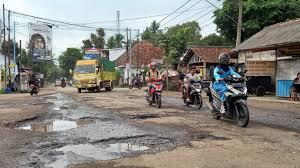Pothole: (9, 141, 235, 167), (6, 112, 103, 131), (35, 86, 90, 114), (127, 105, 189, 124)
